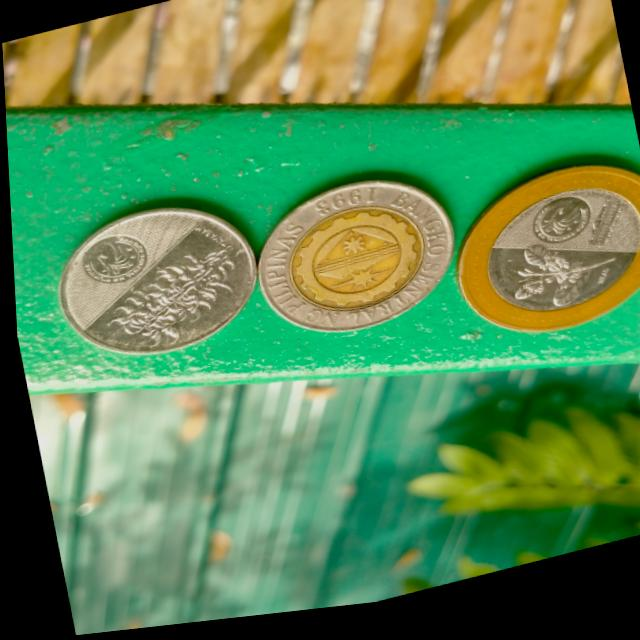10_Old_Back: (241, 169, 460, 358)
20_New_Back: (494, 235, 625, 338)
5_New_Back: (89, 241, 252, 364)
